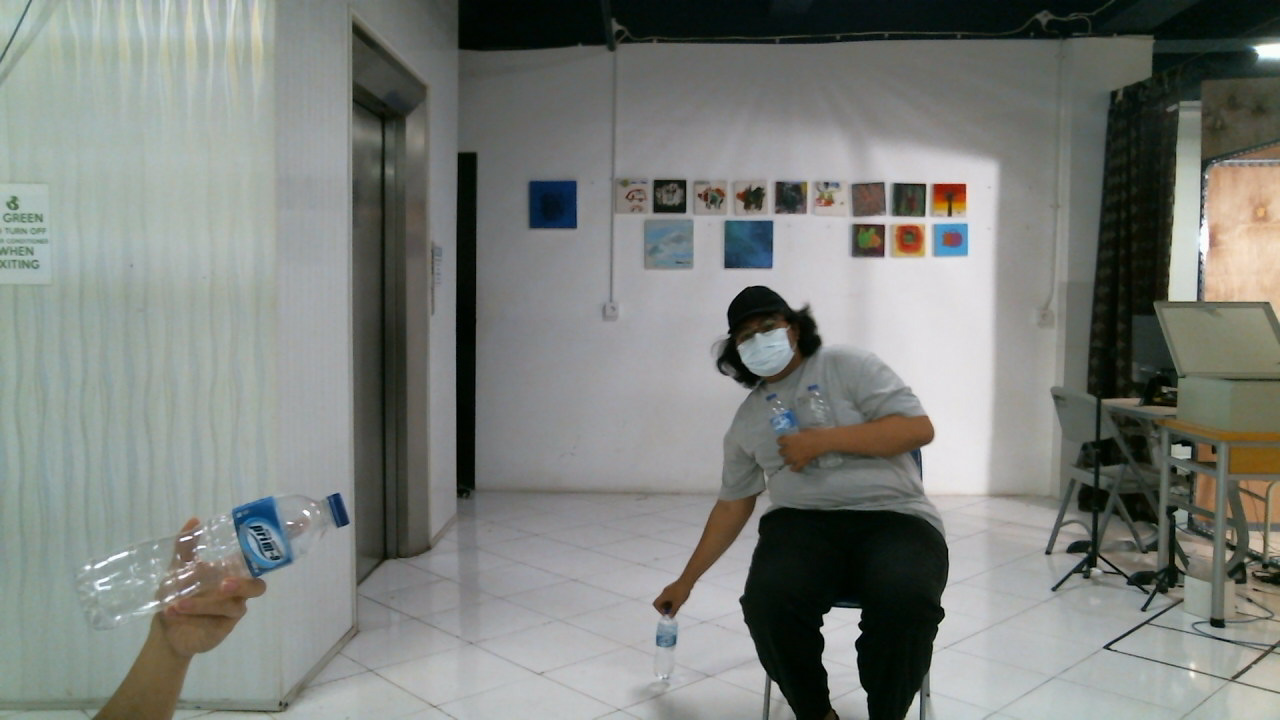Bottle: (66, 490, 345, 634)
